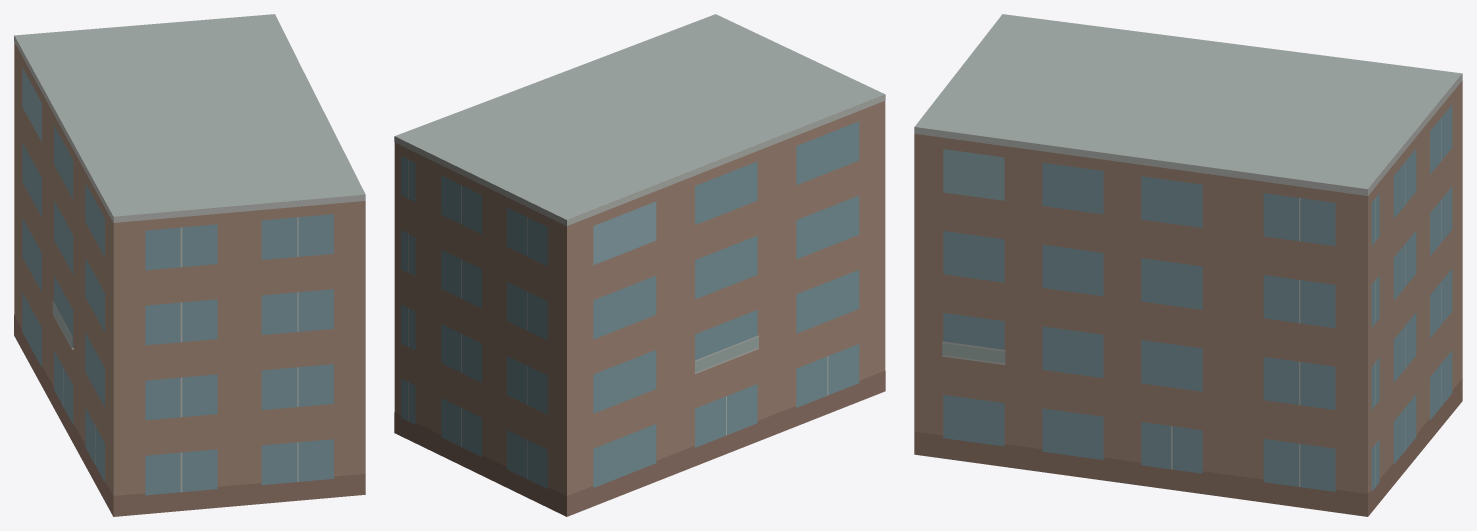
The model's file is survey-upis-32868950.glb.
The picture shows the model from 3 angles, left to right: view 1: azimuth 30°, elevation 25°; view 2: azimuth 150°, elevation 25°; view 3: azimuth 270°, elevation 25°; orthographic projection. The views are drawn at different scales.
Parts seen in each view (by area): view 1: survey-upis-32868950.tmp; view 2: survey-upis-32868950.tmp; view 3: survey-upis-32868950.tmp.
Boxes of the visible parts, left/top/right/bottom form: survey-upis-32868950.tmp: left=14, top=14, right=365, bottom=516; survey-upis-32868950.tmp: left=394, top=14, right=885, bottom=516; survey-upis-32868950.tmp: left=914, top=14, right=1462, bottom=516.
Size of the model in its own units: 13.43 by 11.7 by 17.75.
